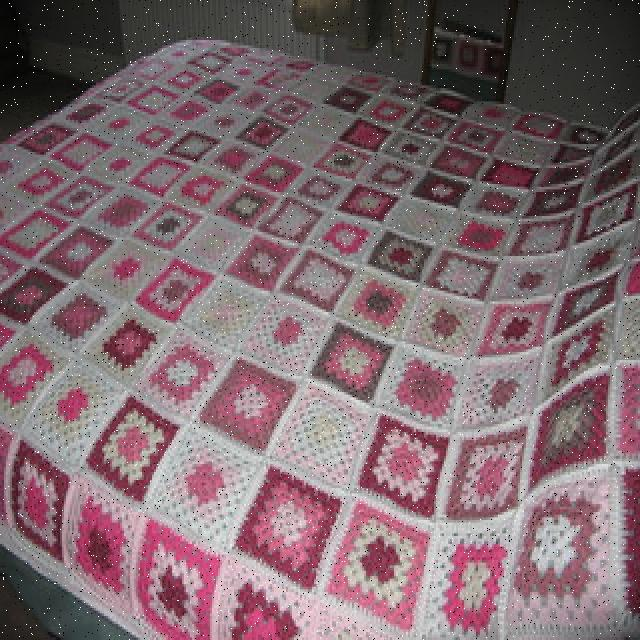bed: (0, 61, 636, 636)
